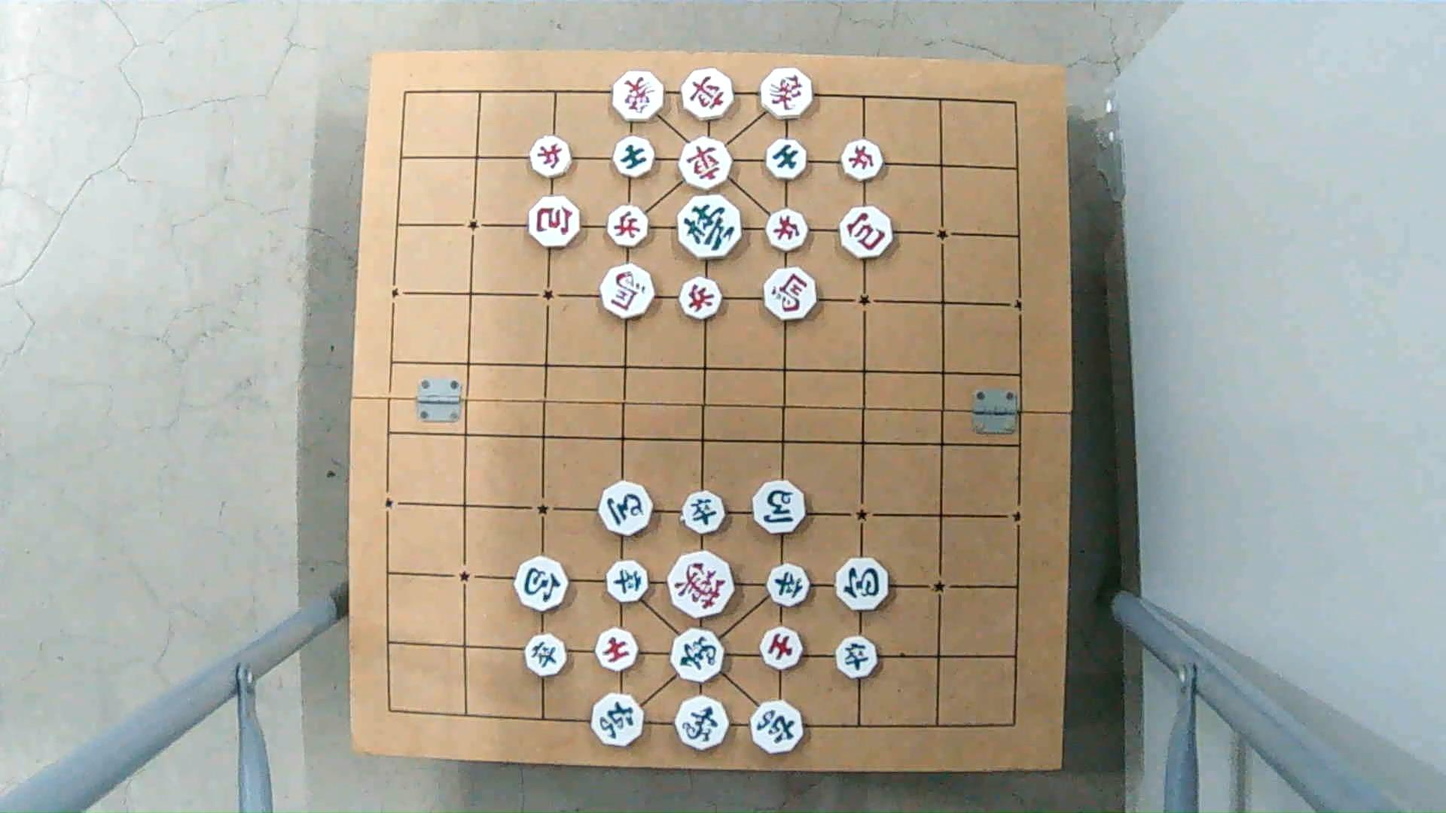cha_green: (587, 694, 645, 744), (747, 702, 805, 751)
cha_red: (676, 140, 735, 188), (680, 72, 737, 119)
jol_green: (678, 492, 728, 534), (833, 637, 880, 679), (768, 564, 811, 609), (604, 563, 653, 602), (522, 636, 568, 676)
jol_red: (764, 211, 812, 251), (676, 279, 724, 318), (838, 142, 886, 180), (527, 139, 576, 176), (605, 209, 653, 246)
ma_green: (752, 483, 810, 532), (596, 485, 655, 532)
ma_red: (597, 269, 658, 318), (758, 269, 819, 318)
po_green: (833, 562, 892, 609), (514, 560, 572, 607)
po_red: (836, 208, 895, 257), (526, 197, 583, 245)
sa_green: (764, 140, 810, 178), (610, 139, 655, 176)
sa_red: (596, 627, 640, 672), (759, 629, 805, 668)
sang_green: (673, 696, 732, 748), (672, 629, 729, 680)
sang_red: (611, 69, 667, 124), (758, 72, 817, 118)
wang_green: (673, 196, 742, 258)
wang_red: (667, 555, 738, 616)
